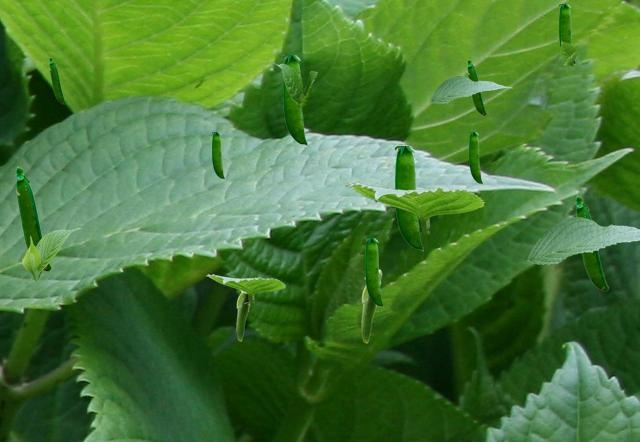pea: (15, 166, 50, 270), (575, 195, 607, 290), (395, 146, 422, 250), (283, 55, 306, 145), (361, 269, 381, 342), (365, 238, 382, 306), (467, 59, 485, 114), (559, 4, 574, 63), (49, 57, 64, 103), (236, 291, 250, 340), (469, 132, 481, 183), (212, 132, 223, 178)
